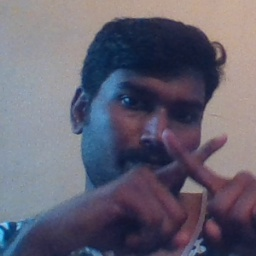X: (129, 113, 243, 236)
